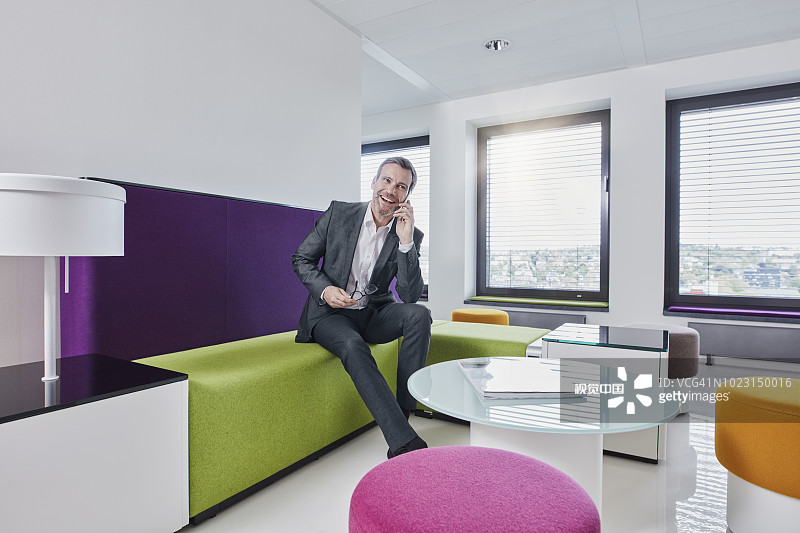calling: (381, 192, 426, 256)
no-phone: (315, 268, 384, 322)
